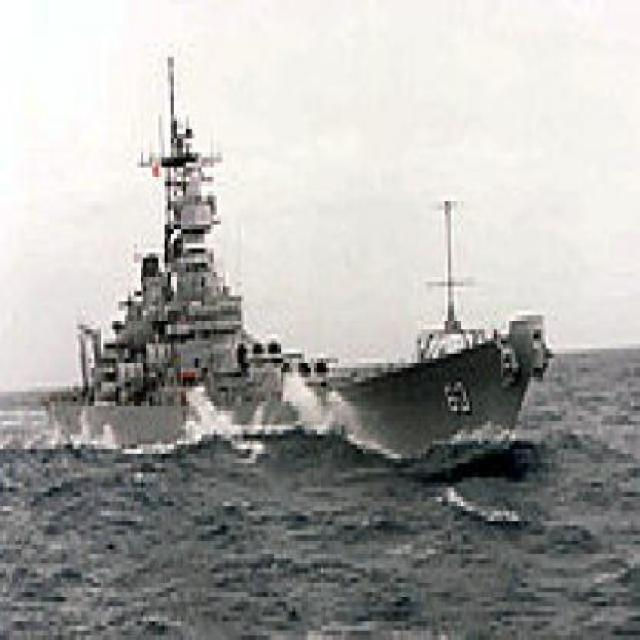warship2: (34, 106, 534, 464)
